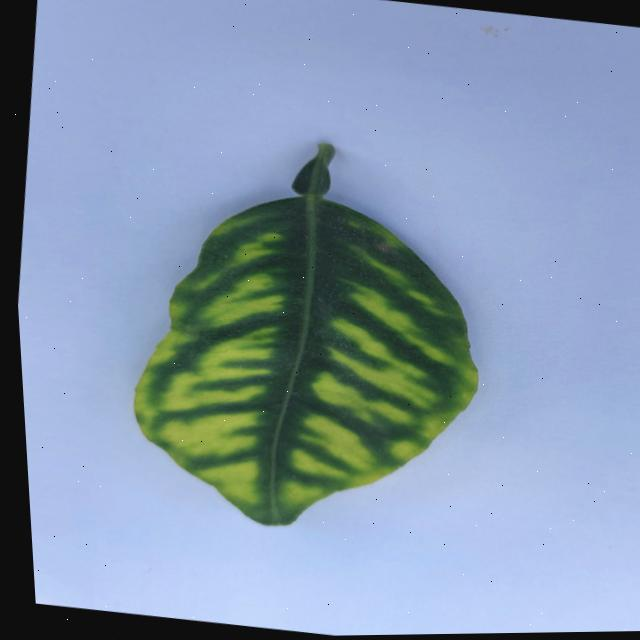greening: (134, 144, 477, 525)
